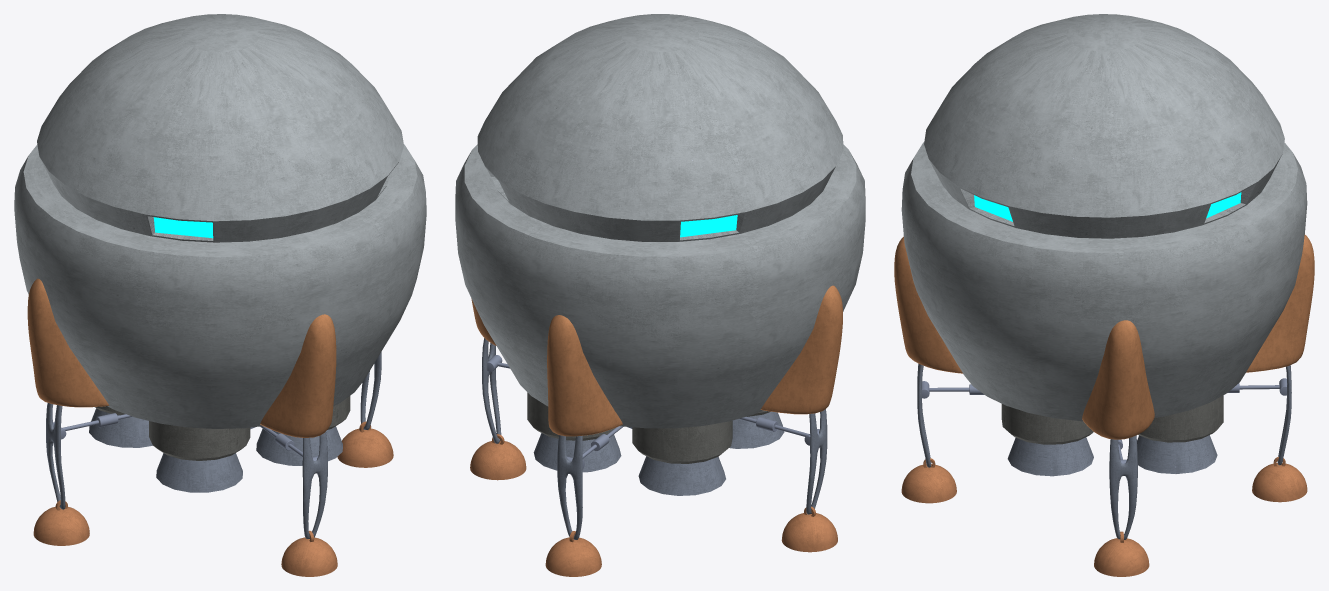
Rendered from Building02.gltf.
3 views of the same model, side by side, from view 1: azimuth 30°, elevation 25°; view 2: azimuth 150°, elevation 25°; view 3: azimuth 270°, elevation 25° (orthographic).
Visible parts, largest first — view 1: Building_02_Main_01, Building_02_Legs_01 (×2), Building_02_Exhaust_01 (×3), Building_02_Legs_01_Bottom (×3), Building_02_Legs_01_Mid (×3); view 2: Building_02_Main_01, Building_02_Legs_01 (×2), Building_02_Exhaust_01 (×3), Building_02_Legs_01_Bottom (×3), Building_02_Legs_01_Mid (×3), Building_02_Pipe_01; view 3: Building_02_Main_01, Building_02_Legs_01 (×3), Building_02_Exhaust_01 (×2), Building_02_Legs_01_Bottom (×3), Building_02_Legs_01_Mid (×3).
Part boxes in pixels (x1,y1,x2,y2): Building_02_Main_01: (14,14,426,428); Building_02_Legs_01 (×2): (27,278,336,437); Building_02_Exhaust_01 (×3): (89,396,350,492); Building_02_Legs_01_Bottom (×3): (33,421,393,576); Building_02_Legs_01_Mid (×3): (46,352,381,538); Building_02_Main_01: (455,14,865,428); Building_02_Legs_01 (×2): (547,285,842,436); Building_02_Exhaust_01 (×3): (527,392,784,495); Building_02_Legs_01_Bottom (×3): (470,434,837,576); Building_02_Legs_01_Mid (×3): (482,338,827,539); Building_02_Pipe_01: (739,416,819,445); Building_02_Main_01: (901,14,1307,421); Building_02_Legs_01 (×3): (894,234,1314,439); Building_02_Exhaust_01 (×2): (1001,395,1223,476); Building_02_Legs_01_Bottom (×3): (901,457,1307,576); Building_02_Legs_01_Mid (×3): (917,363,1291,539).
Size of the model in its own units: 3.4 by 4.12 by 3.41.
Materials: 9 (8 with a texture image).
